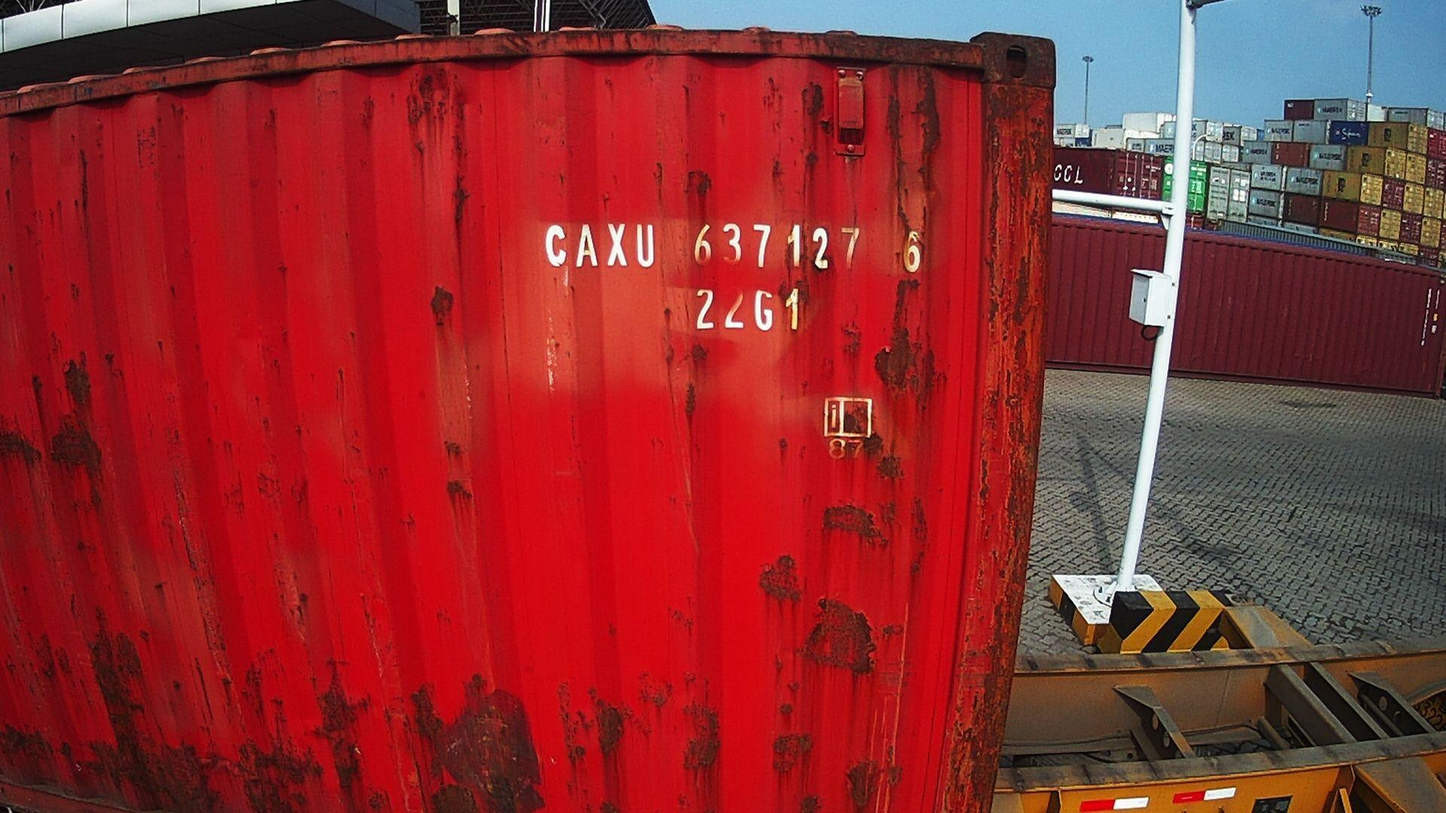container-numbers: (537, 218, 935, 276), (691, 287, 810, 337)
